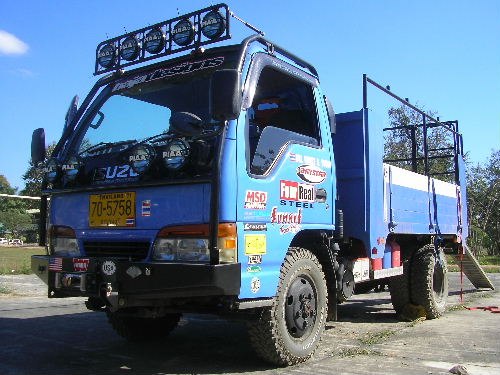truck: (42, 44, 351, 368)
